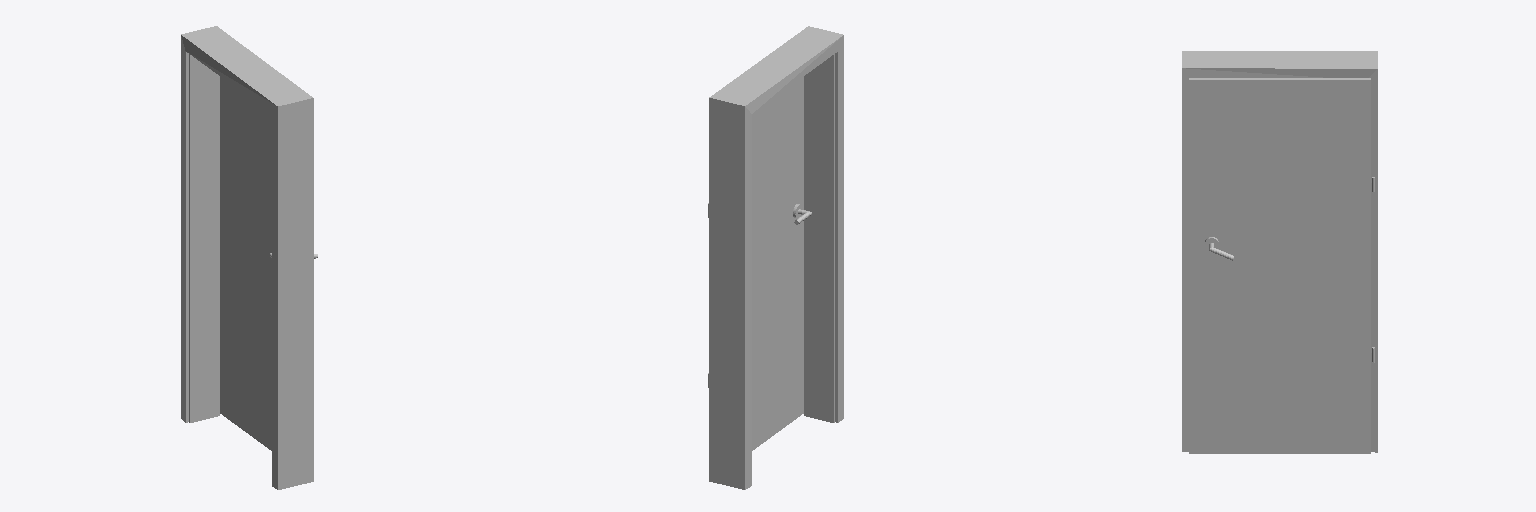
The model's file is door56.obj.
The picture shows the model from 3 angles: view 1: azimuth 30°, elevation 25°; view 2: azimuth 150°, elevation 25°; view 3: azimuth 270°, elevation 25°; orthographic projection.
Visible parts, largest first — view 1: Cylinder.005, Cylinder.001; view 2: Cylinder.005, Cylinder.001; view 3: Cylinder.001, Cylinder.005.
Part boxes in pixels (x1,y1,x2,y2): Cylinder.005: (181,26,313,489); Cylinder.001: (220,77,271,450); Cylinder.005: (708,26,843,489); Cylinder.001: (708,77,803,450); Cylinder.001: (1189,78,1374,453); Cylinder.005: (1182,51,1377,452).
Size of the model in its own units: 0.3039 by 2.05 by 0.95.